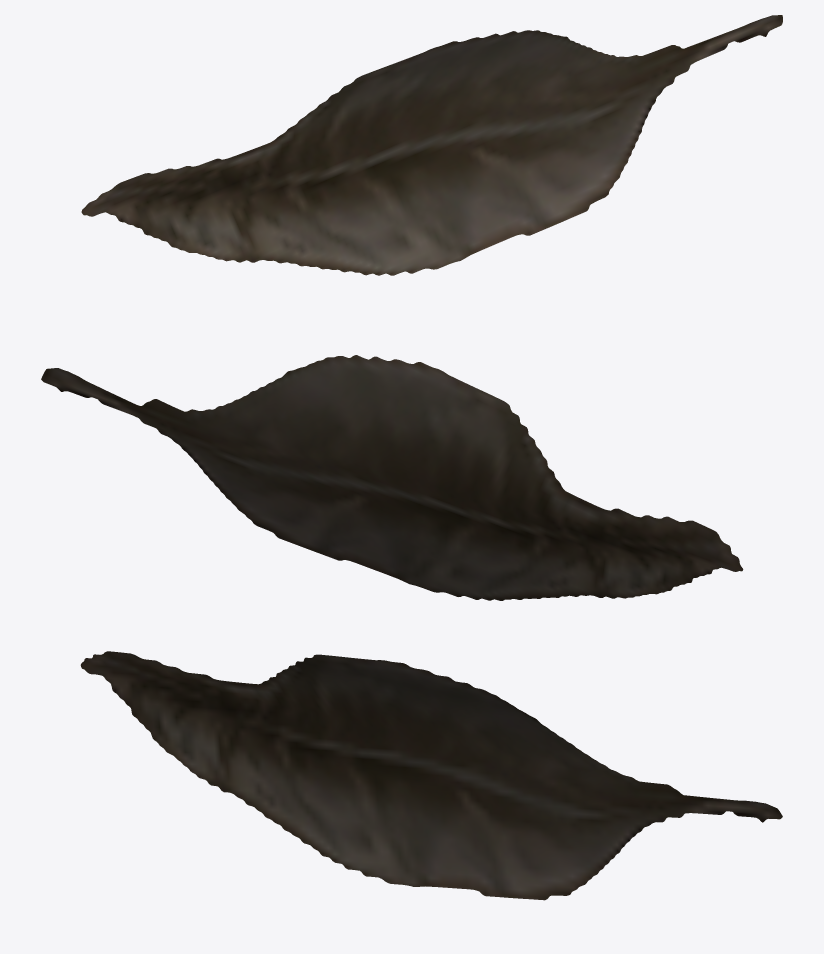
The model's file is TI_Old_Foliage_01.fbx.
3 renders of one model, top to bottom at view 1: azimuth 30°, elevation 25°; view 2: azimuth 150°, elevation 25°; view 3: azimuth 330°, elevation 25°, orthographic.
Parts seen in each view (by area): view 1: TI_Old_Foliage_01; view 2: TI_Old_Foliage_01; view 3: TI_Old_Foliage_01.
Boxes of the visible parts, bbox=[...] form: TI_Old_Foliage_01: bbox=[81, 15, 782, 275]; TI_Old_Foliage_01: bbox=[41, 355, 743, 600]; TI_Old_Foliage_01: bbox=[80, 651, 782, 900].
Bounding box in the file's own units: 0.3457 × 0.1196 × 0.0233.
